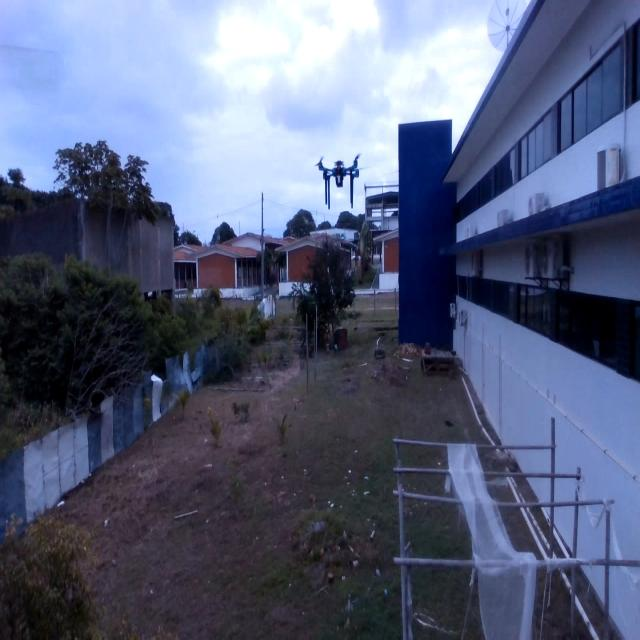-uav-: (308, 145, 369, 221)
